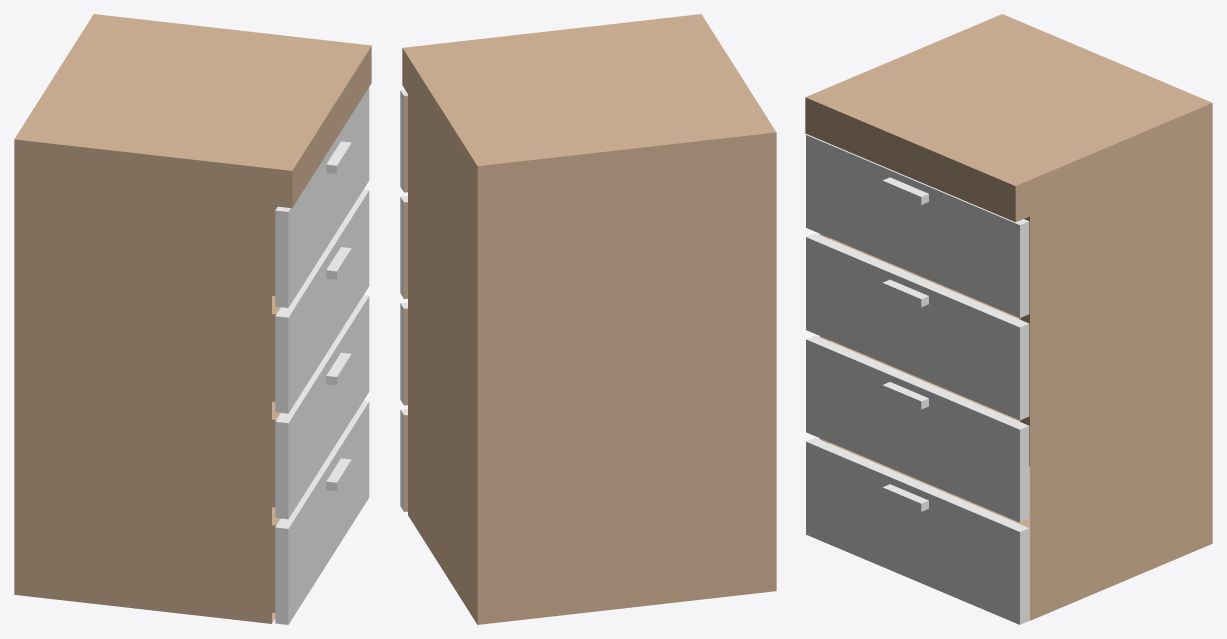
The model's file is Drawer.gltf.
3 views of the same model, side by side, from view 1: azimuth 30°, elevation 25°; view 2: azimuth 150°, elevation 25°; view 3: azimuth 270°, elevation 25° (orthographic). The views are drawn at different scales.
Parts seen in each view (by area): view 1: drawer; view 2: drawer; view 3: drawer.
Boxes of the visible parts, bbox=[...] form: drawer: bbox=[14, 14, 371, 624]; drawer: bbox=[400, 14, 776, 624]; drawer: bbox=[805, 14, 1212, 624].
Size of the model in its own units: 1.44 by 1.72 by 1.44.
